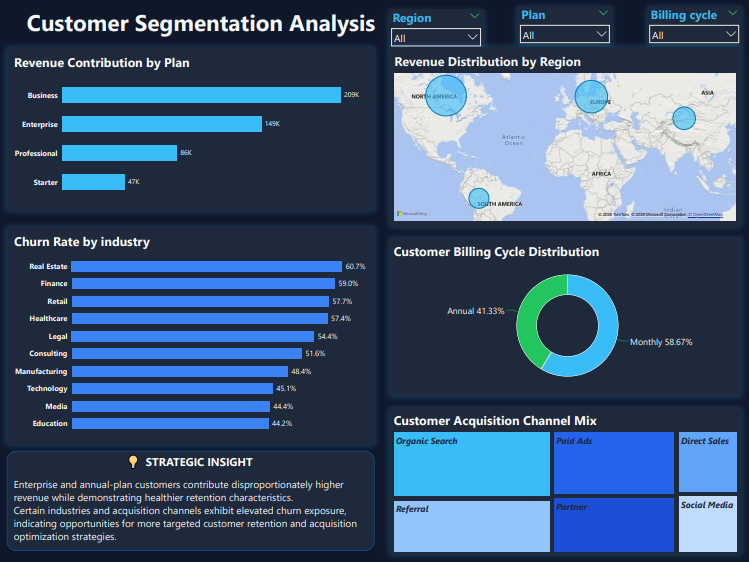

The dashboard page shown, as its layout file describes it:
{"tool":"powerbi","page":{"name":"Customer Segmentation","canvas":[1600,1200],"ordinal":1},"visuals":[{"type":"textbox","box":[46.1,12.8,853.6,64.1],"z":13001},{"type":"slicer","fields":{"Values":["subscriptions.region"]},"box":[832,20.1,200.7,80.3],"z":13002},{"type":"slicer","fields":{"Values":["subscriptions.plan"]},"box":[1107.4,13.4,200.7,80.3],"z":13003},{"type":"slicer","fields":{"Values":["subscriptions.billing_cycle"]},"box":[1382.9,13.4,200.7,80.3],"z":13004},{"type":"barChart","title":"Revenue Contribution by Plan","fields":{"Category":["subscriptions.plan"],"Y":["subscriptions.Total MRR"]},"box":[15.6,100.4,785.1,348],"z":13005},{"type":"map","title":"Revenue Distribution by Region","fields":{"Category":["subscriptions.region"],"Size":["subscriptions.Total MRR"]},"box":[832,100.4,751.7,381.4],"z":13006},{"type":"clusteredBarChart","fields":{"Category":["subscriptions.industry"],"Y":["subscriptions.Churn Rate"]},"box":[15.6,481.8,785.1,463.9],"z":13007},{"type":"donutChart","title":"Customer Billing Cycle Distribution","fields":{"Category":["subscriptions.billing_cycle"],"Y":["subscriptions.Total Customers"]},"box":[832,506.3,751.7,336.8],"z":13008},{"type":"treemap","title":"Customer Acquisition Channel Mix","fields":{"Details":["subscriptions.acquisition_channel"],"Values":["subscriptions.Total Customers"]},"box":[832,867.7,751.7,312.3],"z":13009},{"type":"shape","box":[15.6,961.3,785.1,214.1],"z":13010},{"type":"textbox","box":[234.2,945.7,345.7,71.4],"z":13011},{"type":"textbox","box":[31.2,1017.1,751.7,182.9],"z":13012}]}

Visuals, with their boxes in screenshot pixels (x1, y1, x2, y2), scaled from the page's 1600x1200 canvas onto the 749x562 screenshot:
textbox: (left=22, top=6, right=421, bottom=36)
slicer - subscriptions.region: (left=389, top=9, right=483, bottom=47)
slicer - subscriptions.plan: (left=518, top=6, right=612, bottom=44)
slicer - subscriptions.billing_cycle: (left=647, top=6, right=741, bottom=44)
"Revenue Contribution by Plan" barChart: (left=7, top=47, right=375, bottom=210)
"Revenue Distribution by Region" map: (left=389, top=47, right=741, bottom=226)
clusteredBarChart - subscriptions.industry x subscriptions.Churn Rate: (left=7, top=226, right=375, bottom=443)
"Customer Billing Cycle Distribution" donutChart: (left=389, top=237, right=741, bottom=395)
"Customer Acquisition Channel Mix" treemap: (left=389, top=406, right=741, bottom=553)
shape: (left=7, top=450, right=375, bottom=550)
textbox: (left=110, top=443, right=271, bottom=476)
textbox: (left=15, top=476, right=366, bottom=561)
